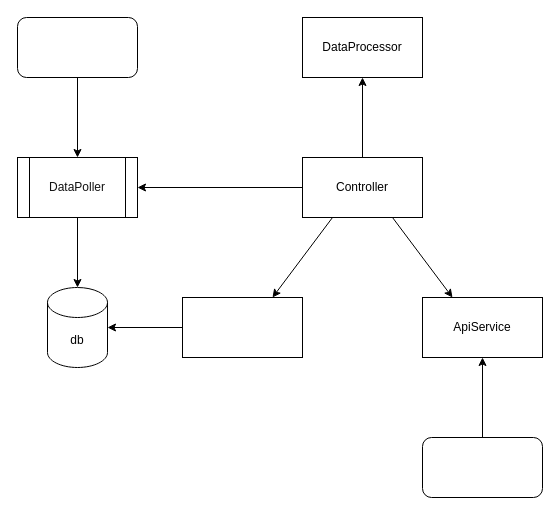
Image size: 560x515. Some labels were removed from this diagram. Each missing label, with the centre of its shape:
"Dashboard" goes at point (482, 467).
"DatabaseManager" goes at point (242, 327).
"Sensor Data" goes at point (77, 47).
